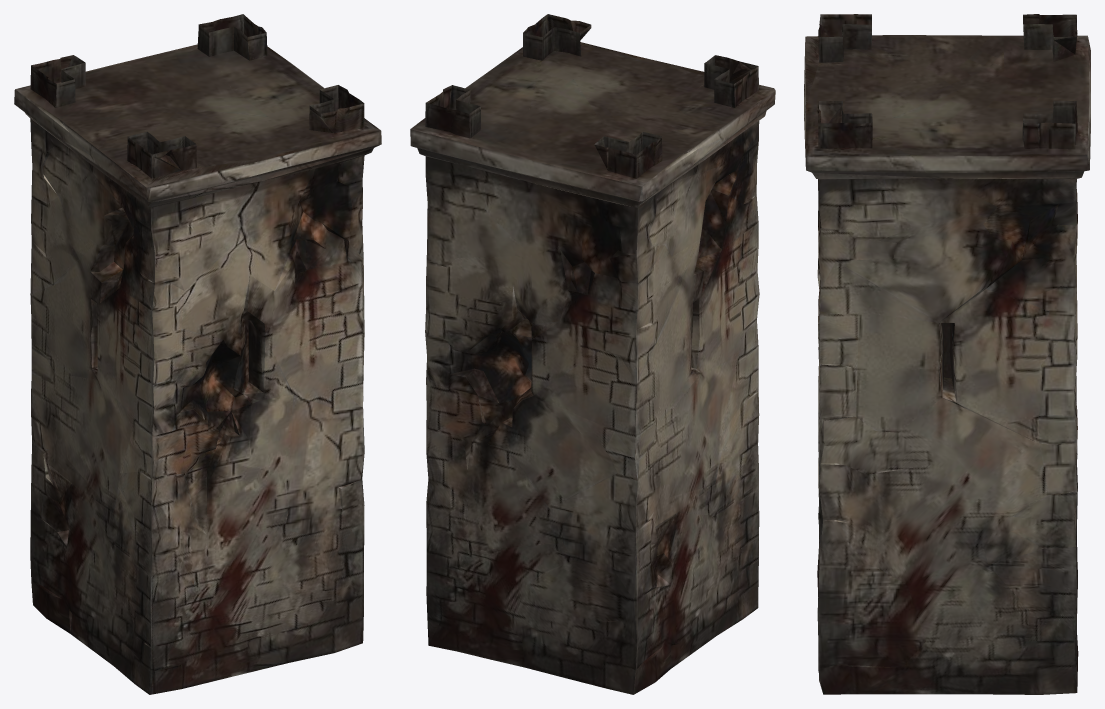
The model's file is prop-watch-tower.glb.
The picture shows the model from 3 angles, left to right: view 1: azimuth 30°, elevation 25°; view 2: azimuth 150°, elevation 25°; view 3: azimuth 270°, elevation 25°; orthographic projection. The views are drawn at different scales.
Visible parts, largest first — view 1: Mesh_0; view 2: Mesh_0; view 3: Mesh_0.
Boxes of the visible parts, bbox=[...] form: Mesh_0: bbox=[14, 14, 381, 694]; Mesh_0: bbox=[410, 14, 775, 694]; Mesh_0: bbox=[804, 14, 1090, 694].
Size of the model in its own units: 0.4338 by 0.9517 by 0.4327.
1 material, 1 textured.
